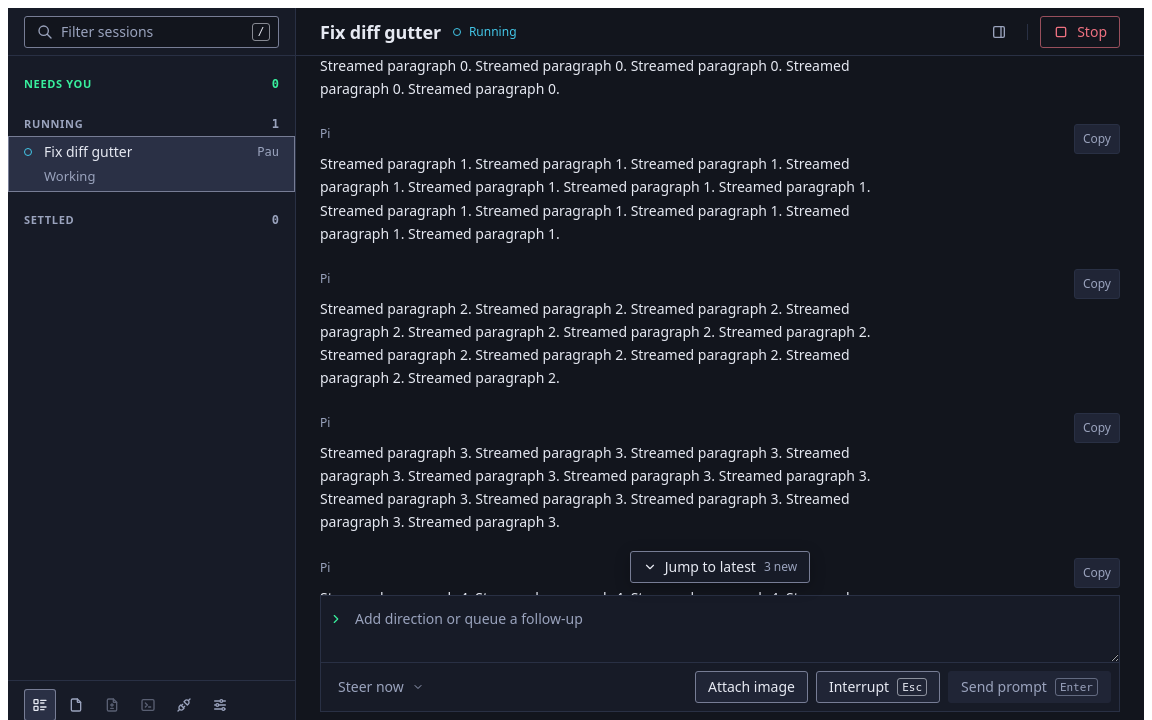
Jump to latest appears after new output arrives while detached, and resumes following
(page scrolled)
Click the button with class "session-view__jump".
click(720, 567)  # box [630,551,810,583]
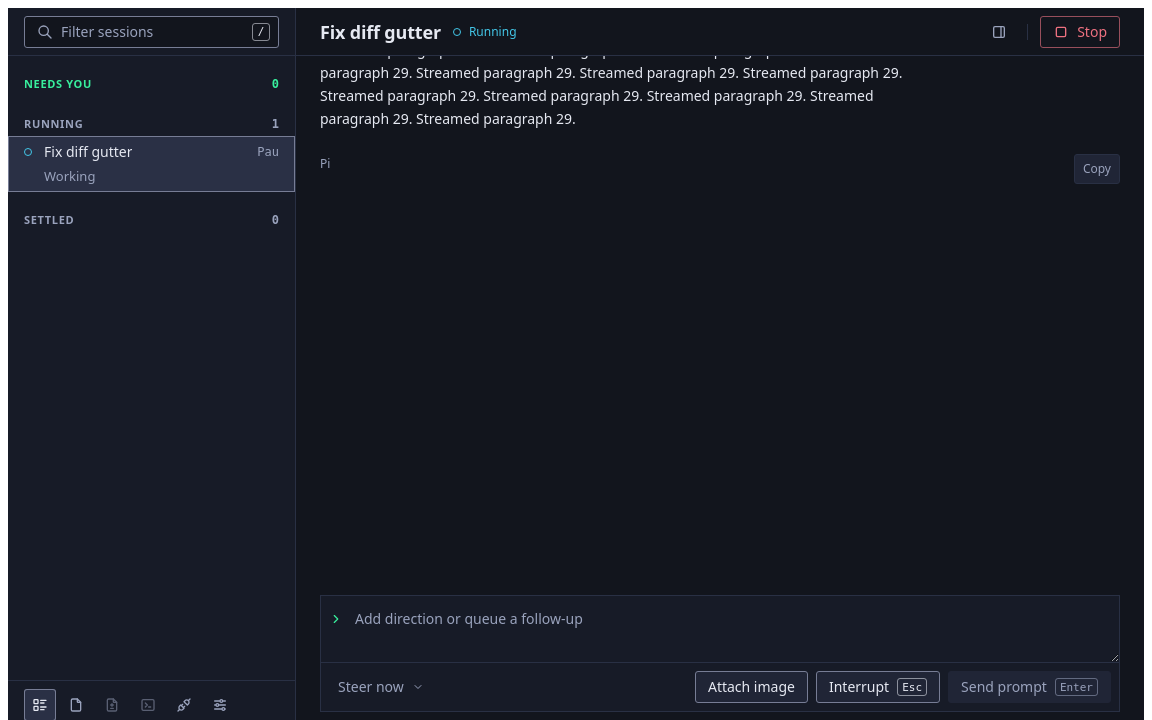
Check: the button with class "session-view__jump" is gone
